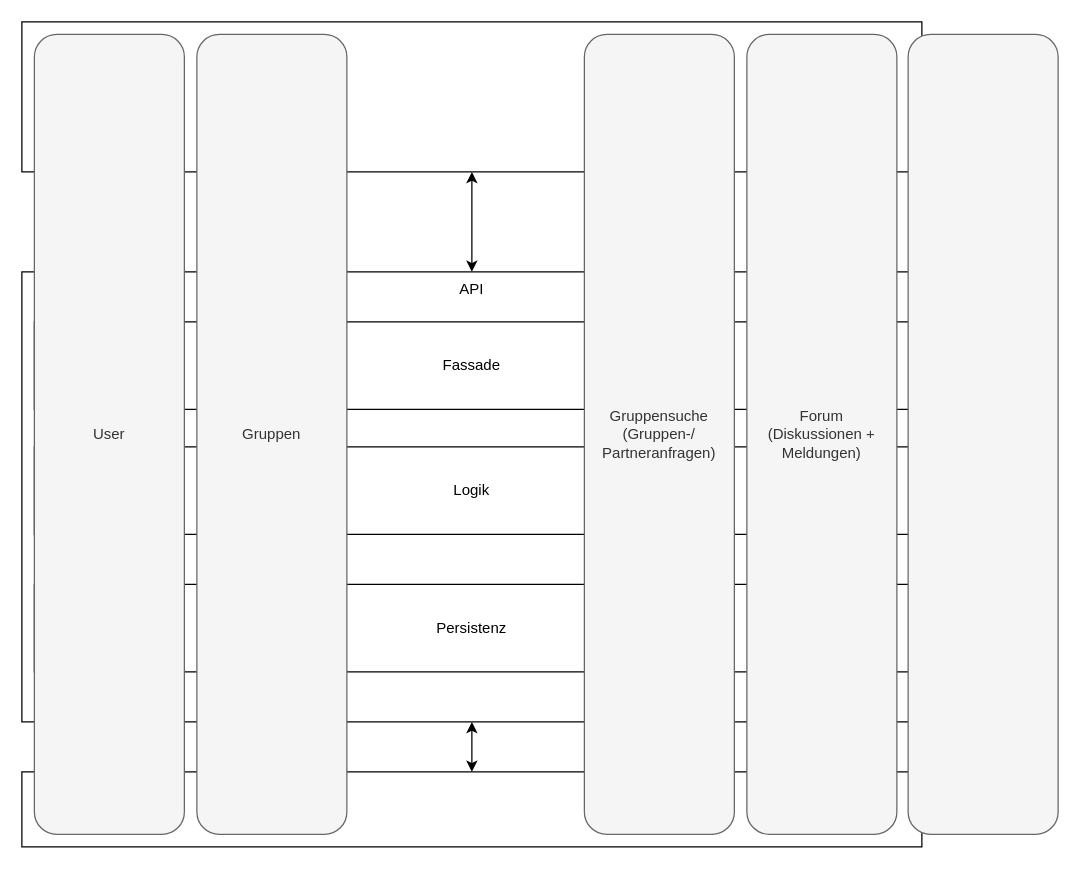
The diagram is 1080 pixels wide and 869 high, and some of its shapes have lost their labels. Each missing label, with the centre of its shape:
Datenbank Wird von der HAW gestellt?: pixel 471 809
Frontend Ausgeliefert durch API: pixel 471 96
Tutorials (hilfreiche Inhalte): pixel 982 433
